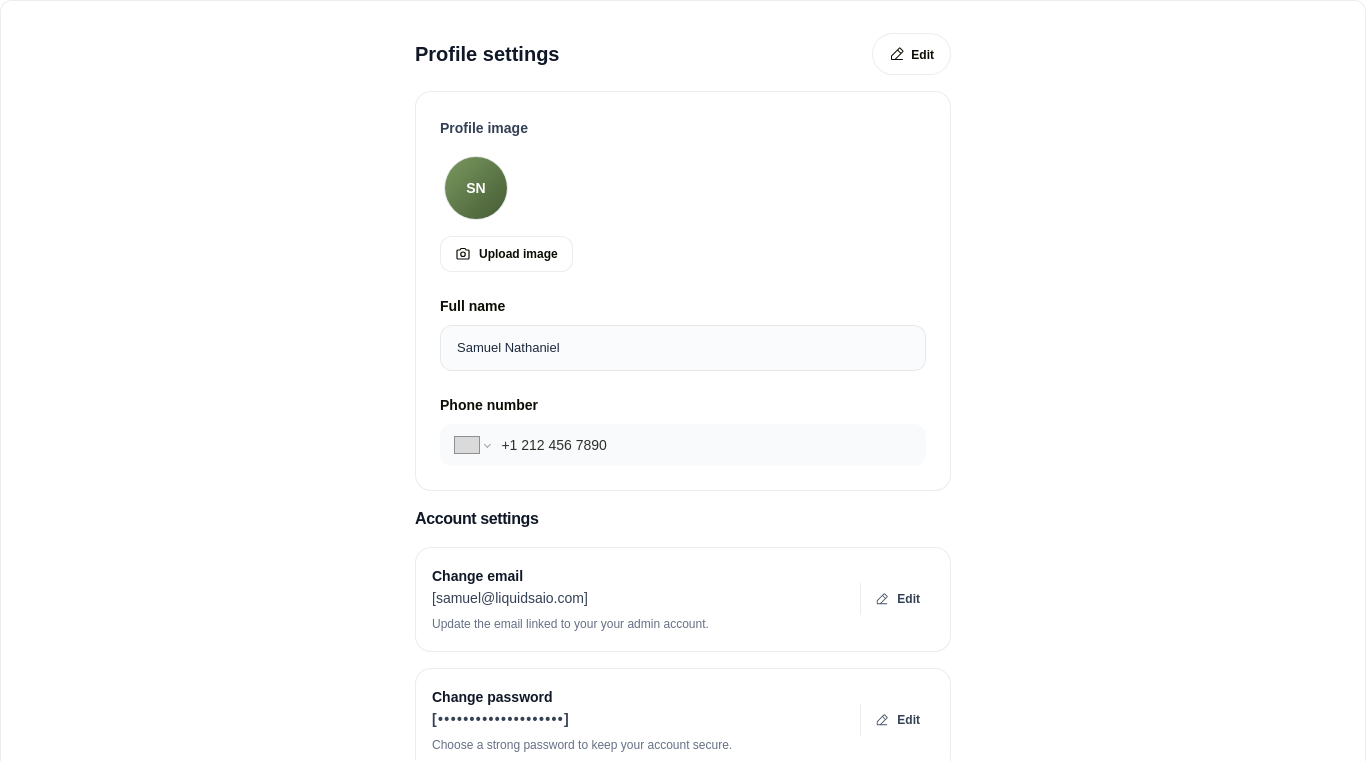
Test case: ProfileSettings › validates inputs and does not post invalid values
Expected: the field showing "Samuel Nathaniel" is shown, [441,326,925,370]
Click the button with aria-label "Edit profile settings": (912, 54) [872,33,951,75]
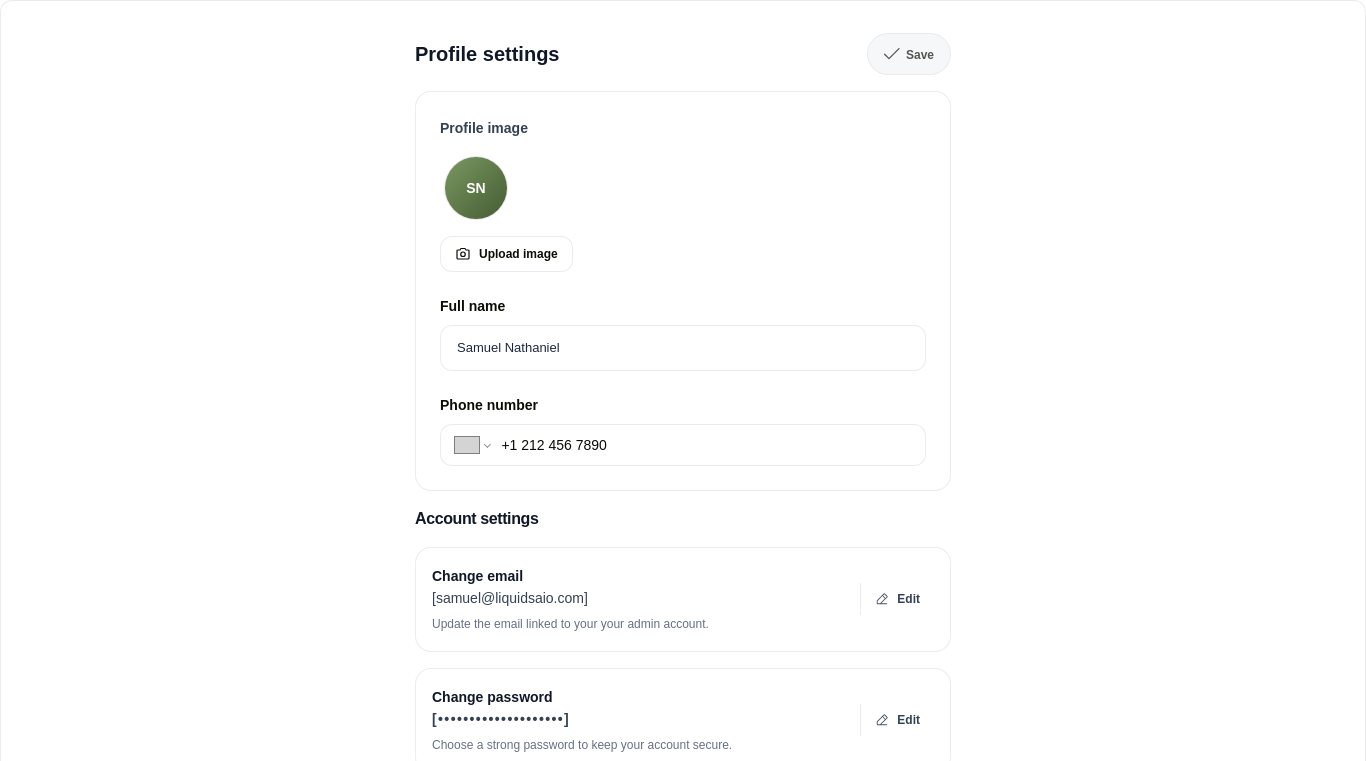
Replace the text in the field named "Full name" with "Samuel": (683, 348) [441,326,925,370]
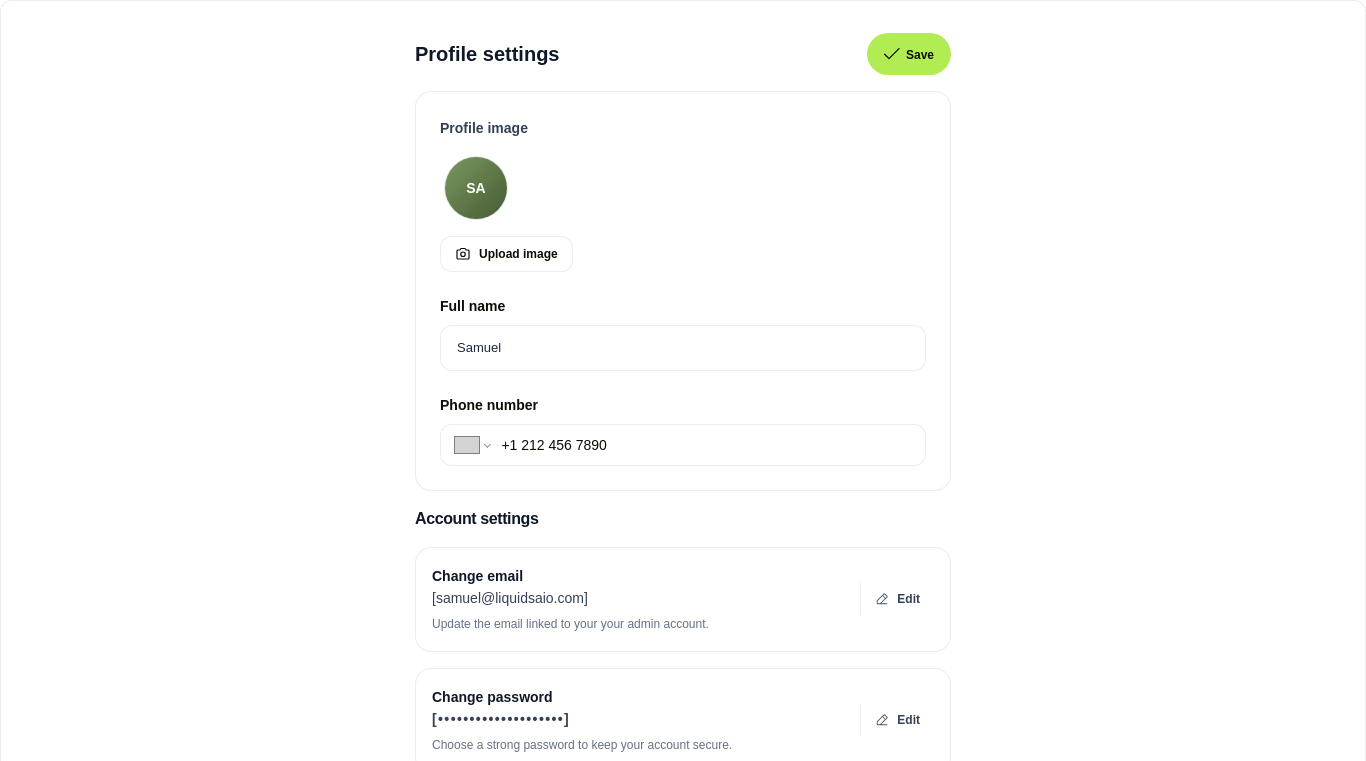
Replace the text in the field named "phone number" with "+1": (706, 444) [501,434,911,454]
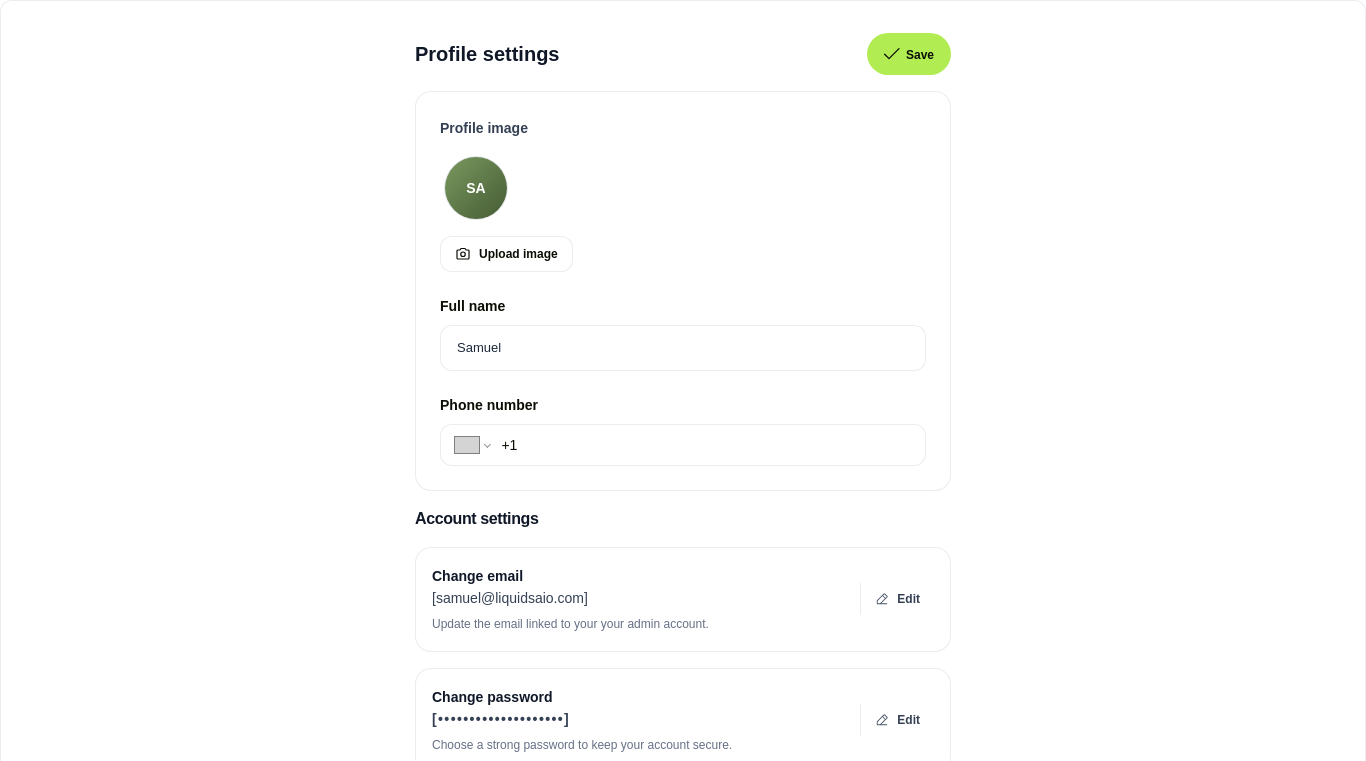
Click the button with aria-label "Save profile settings": (909, 54) [867,33,951,75]
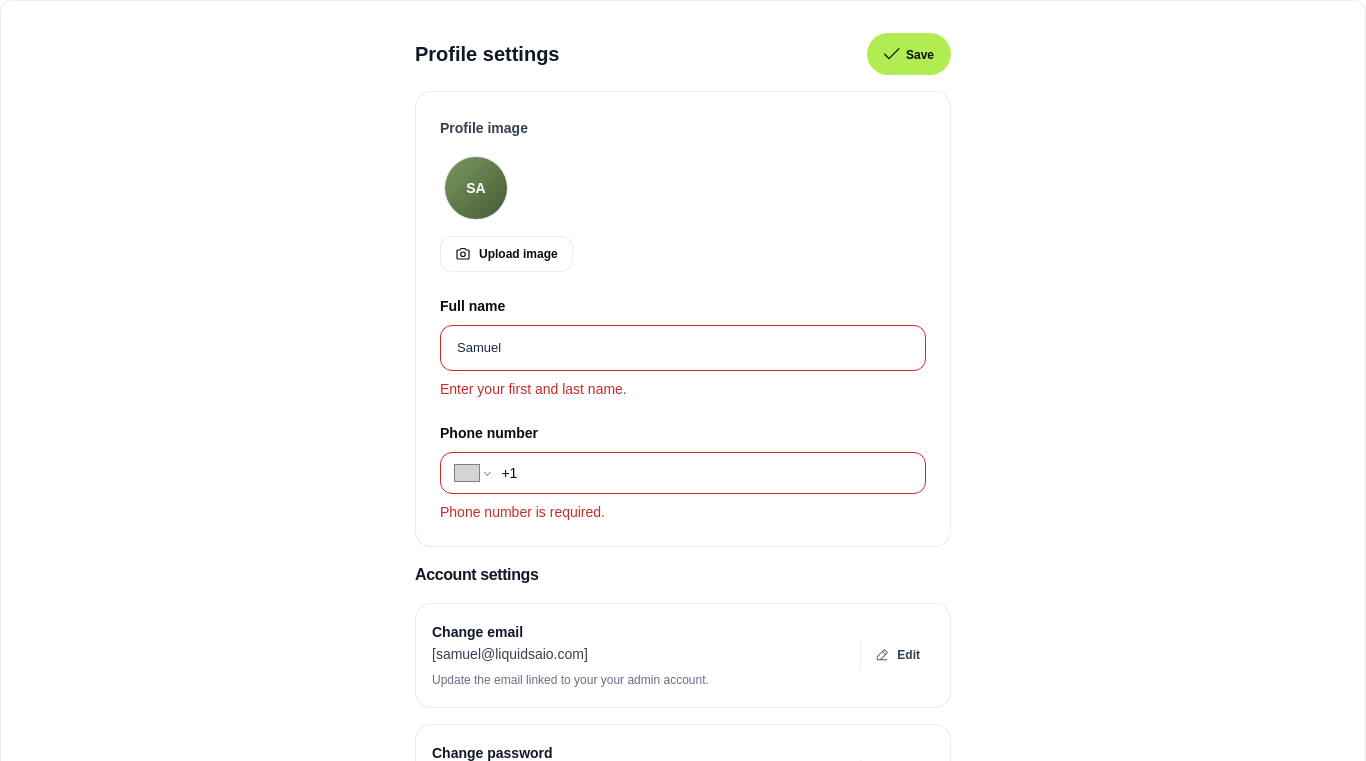
Now the button with aria-label "Save profile settings" is shown, box [867,33,951,75]
Now the text "Enter your first and last name." is shown, box [440,380,627,396]
Now the text "Phone number is required." is shown, box [440,504,605,520]
